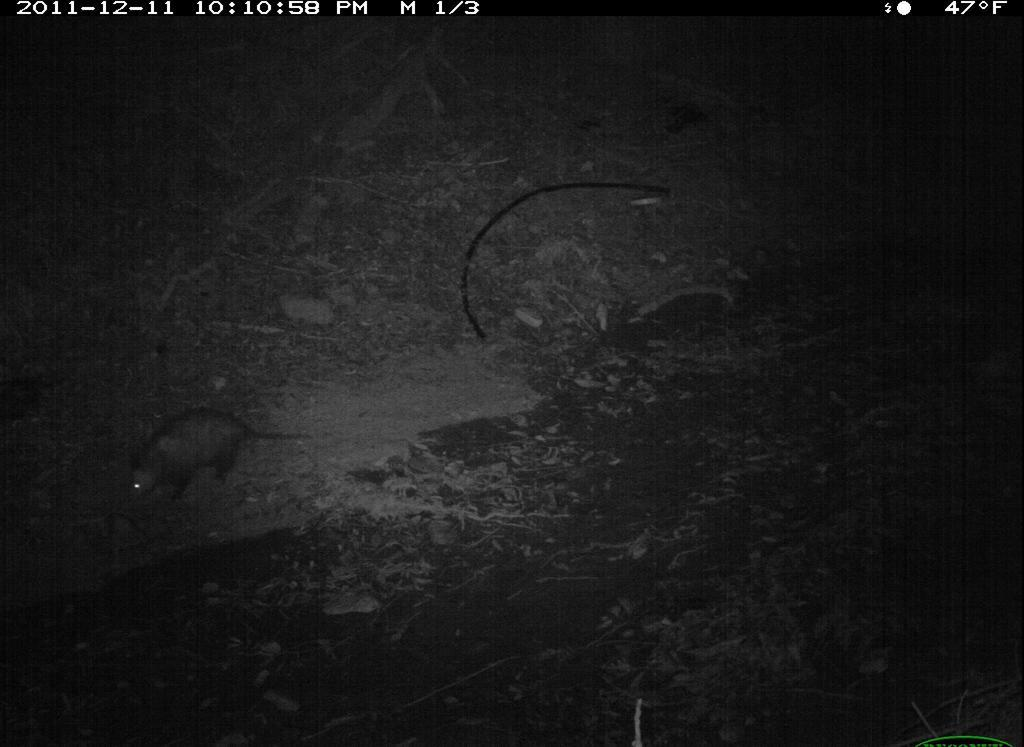opossum: (102, 399, 329, 520)
